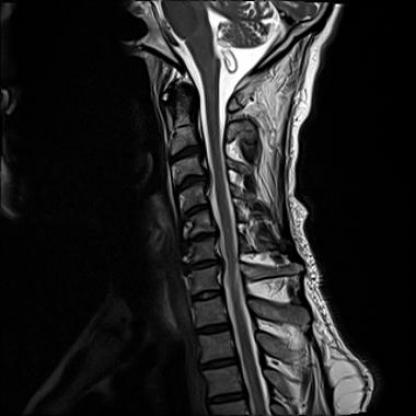Disc Bulgerotation: (167, 144, 206, 163), (171, 174, 211, 192), (184, 230, 219, 245), (187, 257, 221, 272), (180, 204, 211, 219)
Disc Protrusionrotation: (167, 145, 205, 164), (184, 230, 219, 245), (187, 258, 221, 273), (180, 204, 211, 219)
